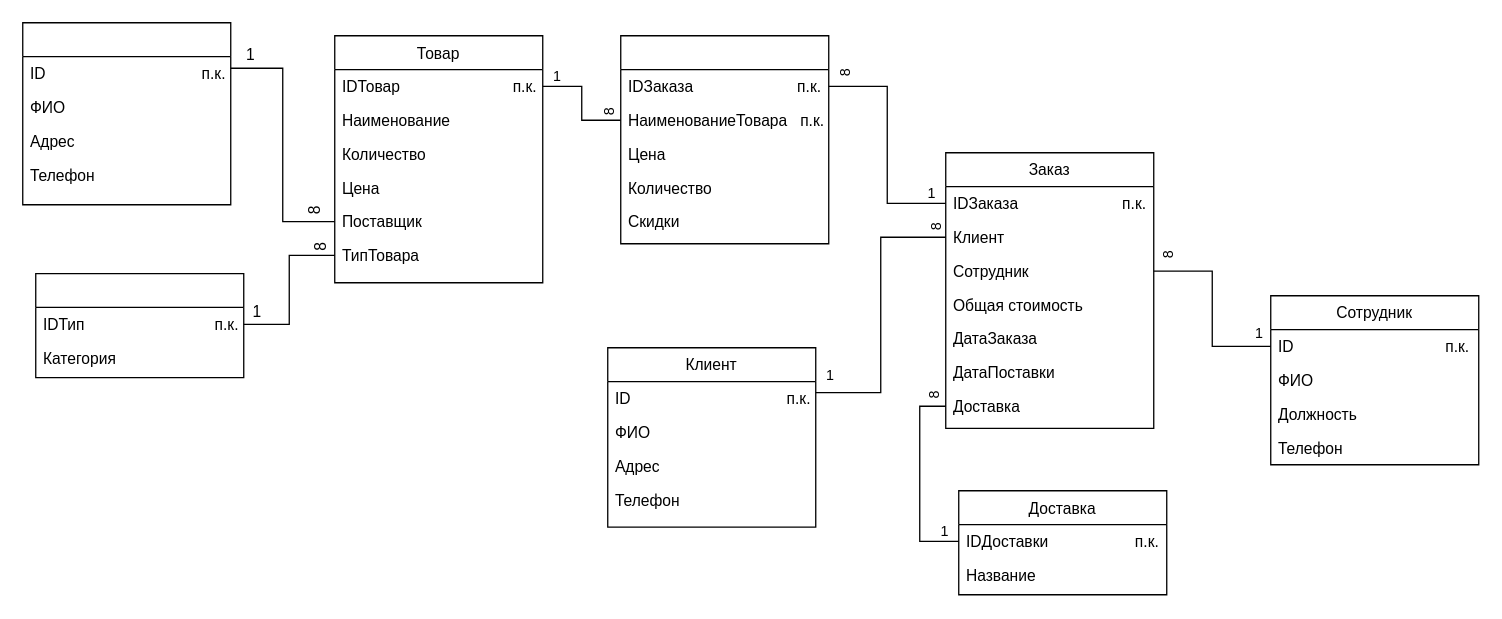
The diagram is 1502 pixels wide and 619 high, and some of its shapes have lost their labels. Each missing label, with the box of its shape:
Заказано: (619, 34, 829, 244)
Поставщики: (21, 21, 231, 205)
Типы: (34, 272, 244, 378)
